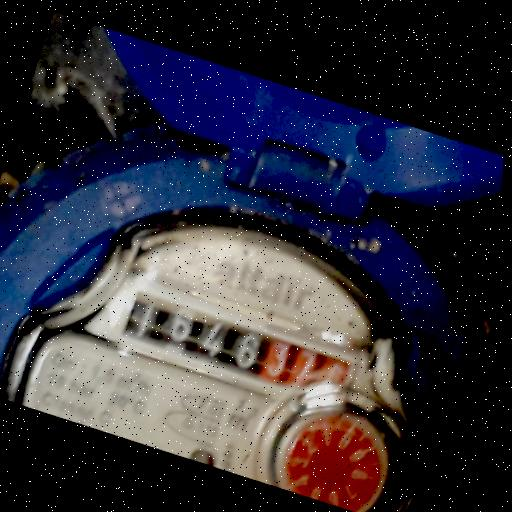1: (122, 288, 168, 345)
3: (255, 334, 297, 390)
4: (191, 312, 237, 370)
6: (155, 300, 203, 358), (225, 323, 269, 380), (314, 352, 352, 395)
7: (284, 343, 322, 395)
border_water_meter_number: (109, 274, 368, 419)
